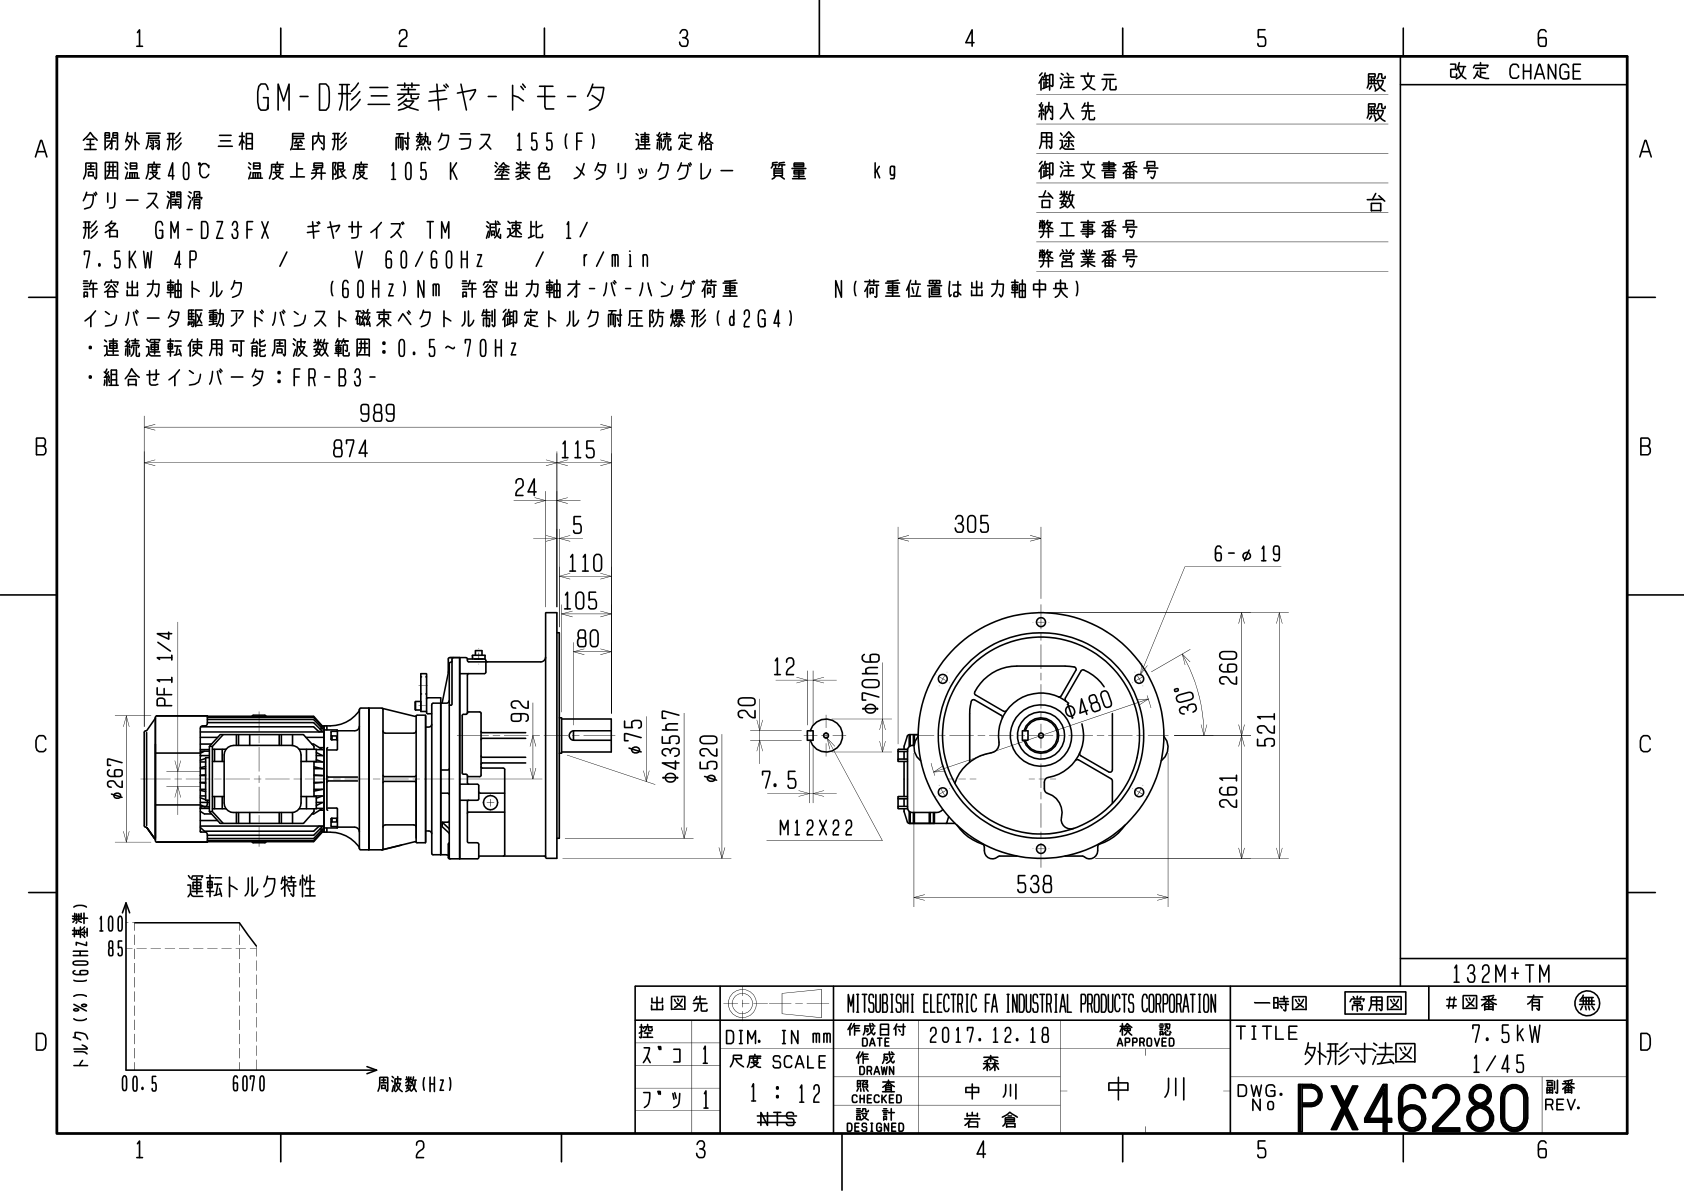GM_D_制御屋内_三相_フランジ: (67, 400, 1370, 951)
